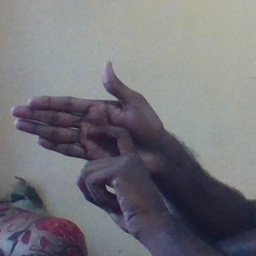R: (13, 57, 149, 178)
